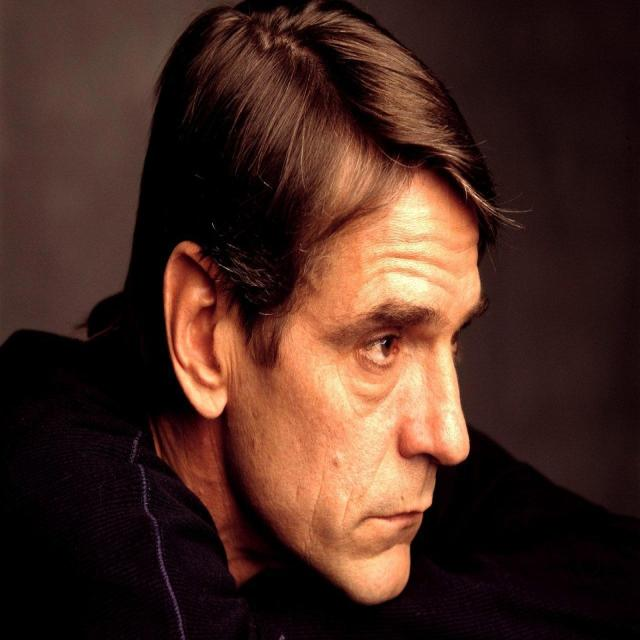no-earmuff: (162, 240, 225, 419)
